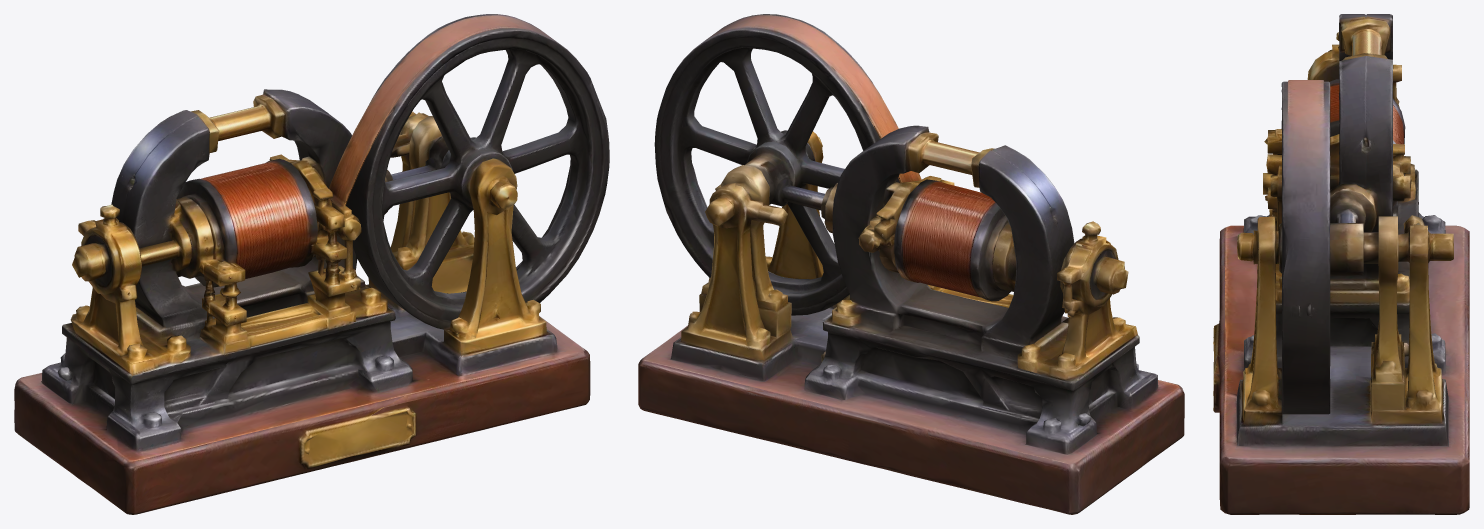
File: dynamo.glb
3 views of the same model, side by side, from view 1: azimuth 30°, elevation 25°; view 2: azimuth 150°, elevation 25°; view 3: azimuth 270°, elevation 25° (orthographic). The views are drawn at different scales.
Parts seen in each view (by area): view 1: tripo_node_70ccb74c-4022-462e-aa7f-c736690a7059; view 2: tripo_node_70ccb74c-4022-462e-aa7f-c736690a7059; view 3: tripo_node_70ccb74c-4022-462e-aa7f-c736690a7059.
Part boxes in pixels (x1,y1,x2,y2): tripo_node_70ccb74c-4022-462e-aa7f-c736690a7059: (14, 14, 609, 514); tripo_node_70ccb74c-4022-462e-aa7f-c736690a7059: (638, 14, 1184, 514); tripo_node_70ccb74c-4022-462e-aa7f-c736690a7059: (1213, 14, 1469, 514).
Size of the model in its own units: 1 by 0.6896 by 0.4145.
Materials: 1 (1 with a texture image).
